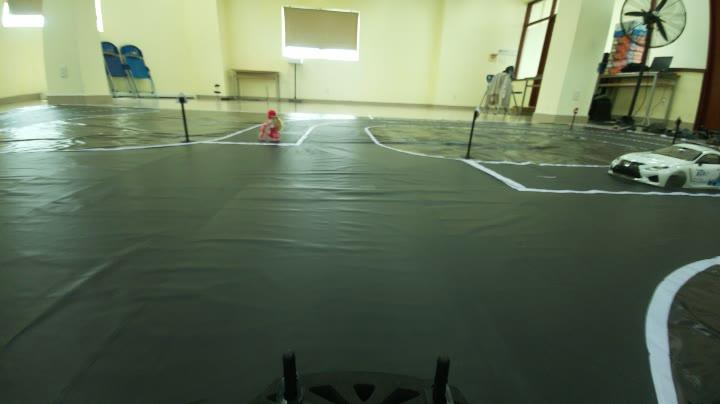car: (613, 132, 718, 200)
